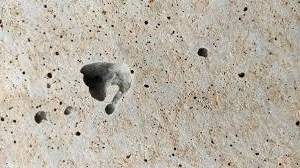Spalling: (1, 1, 300, 168), (79, 61, 133, 116)
